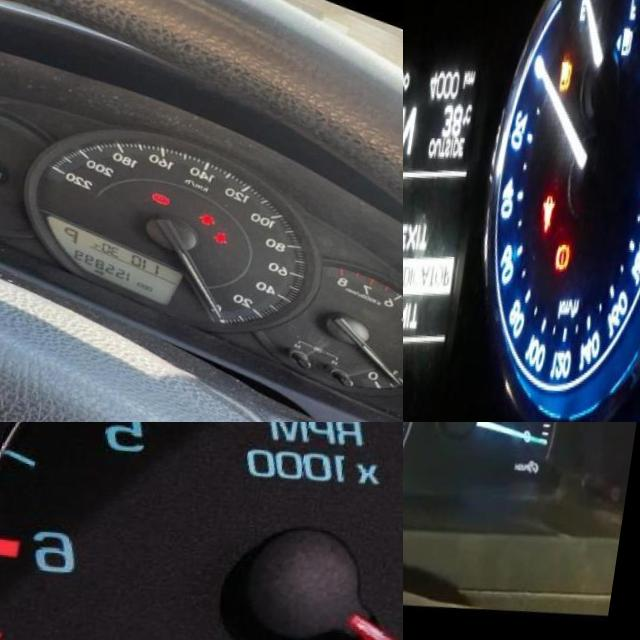Seat Belt: (549, 186, 568, 225), (563, 52, 580, 84)
